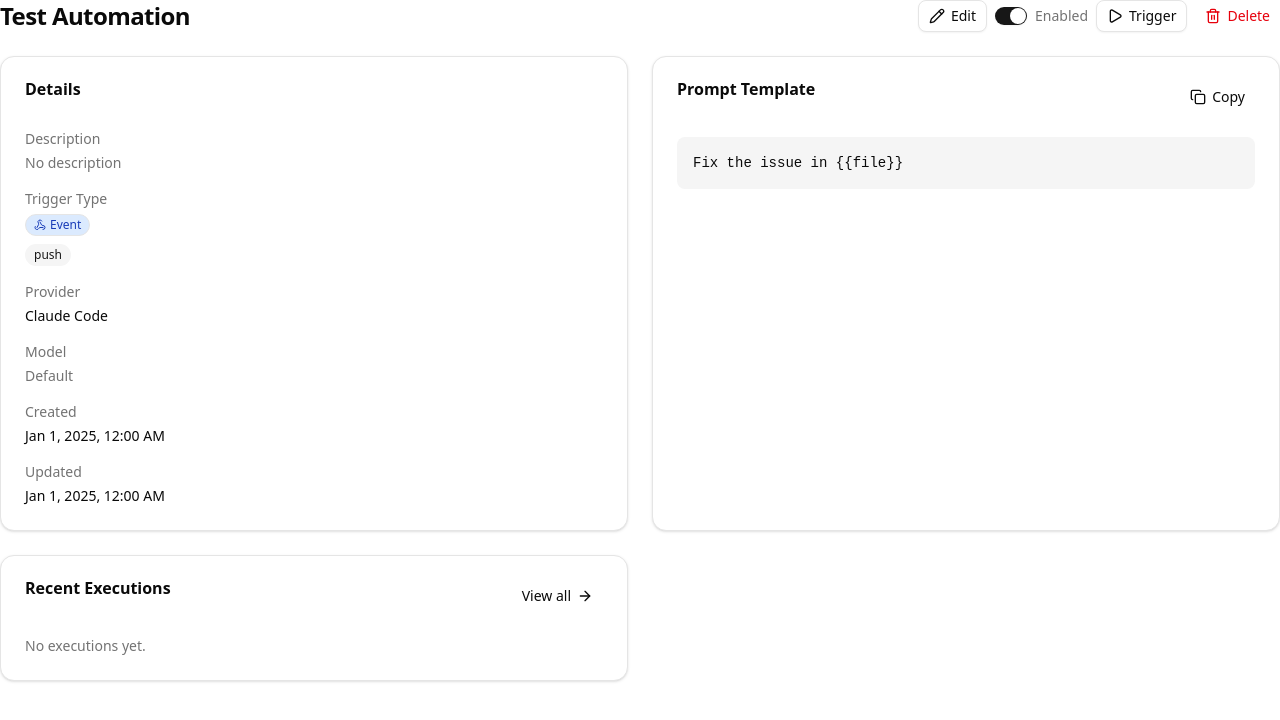
Test: AutomationDetailPage › should open delete dialog when clicking Delete button
Check: the heading "Test Automation" is shown, box top-left (0, 0), bottom-right (190, 32)
Click the button "Delete" at (1238,16), box top-left (1195, 0), bottom-right (1279, 32)
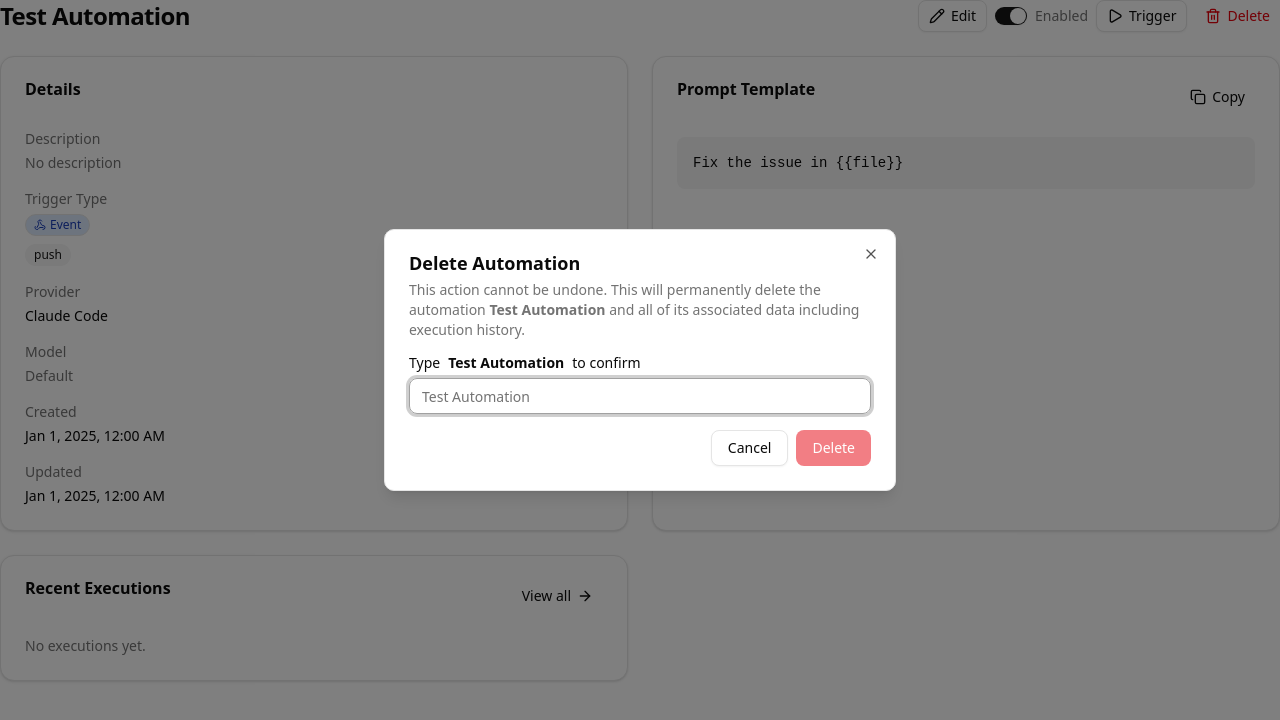
Check: the heading "Delete Automation" is shown, box top-left (409, 251), bottom-right (580, 275)
